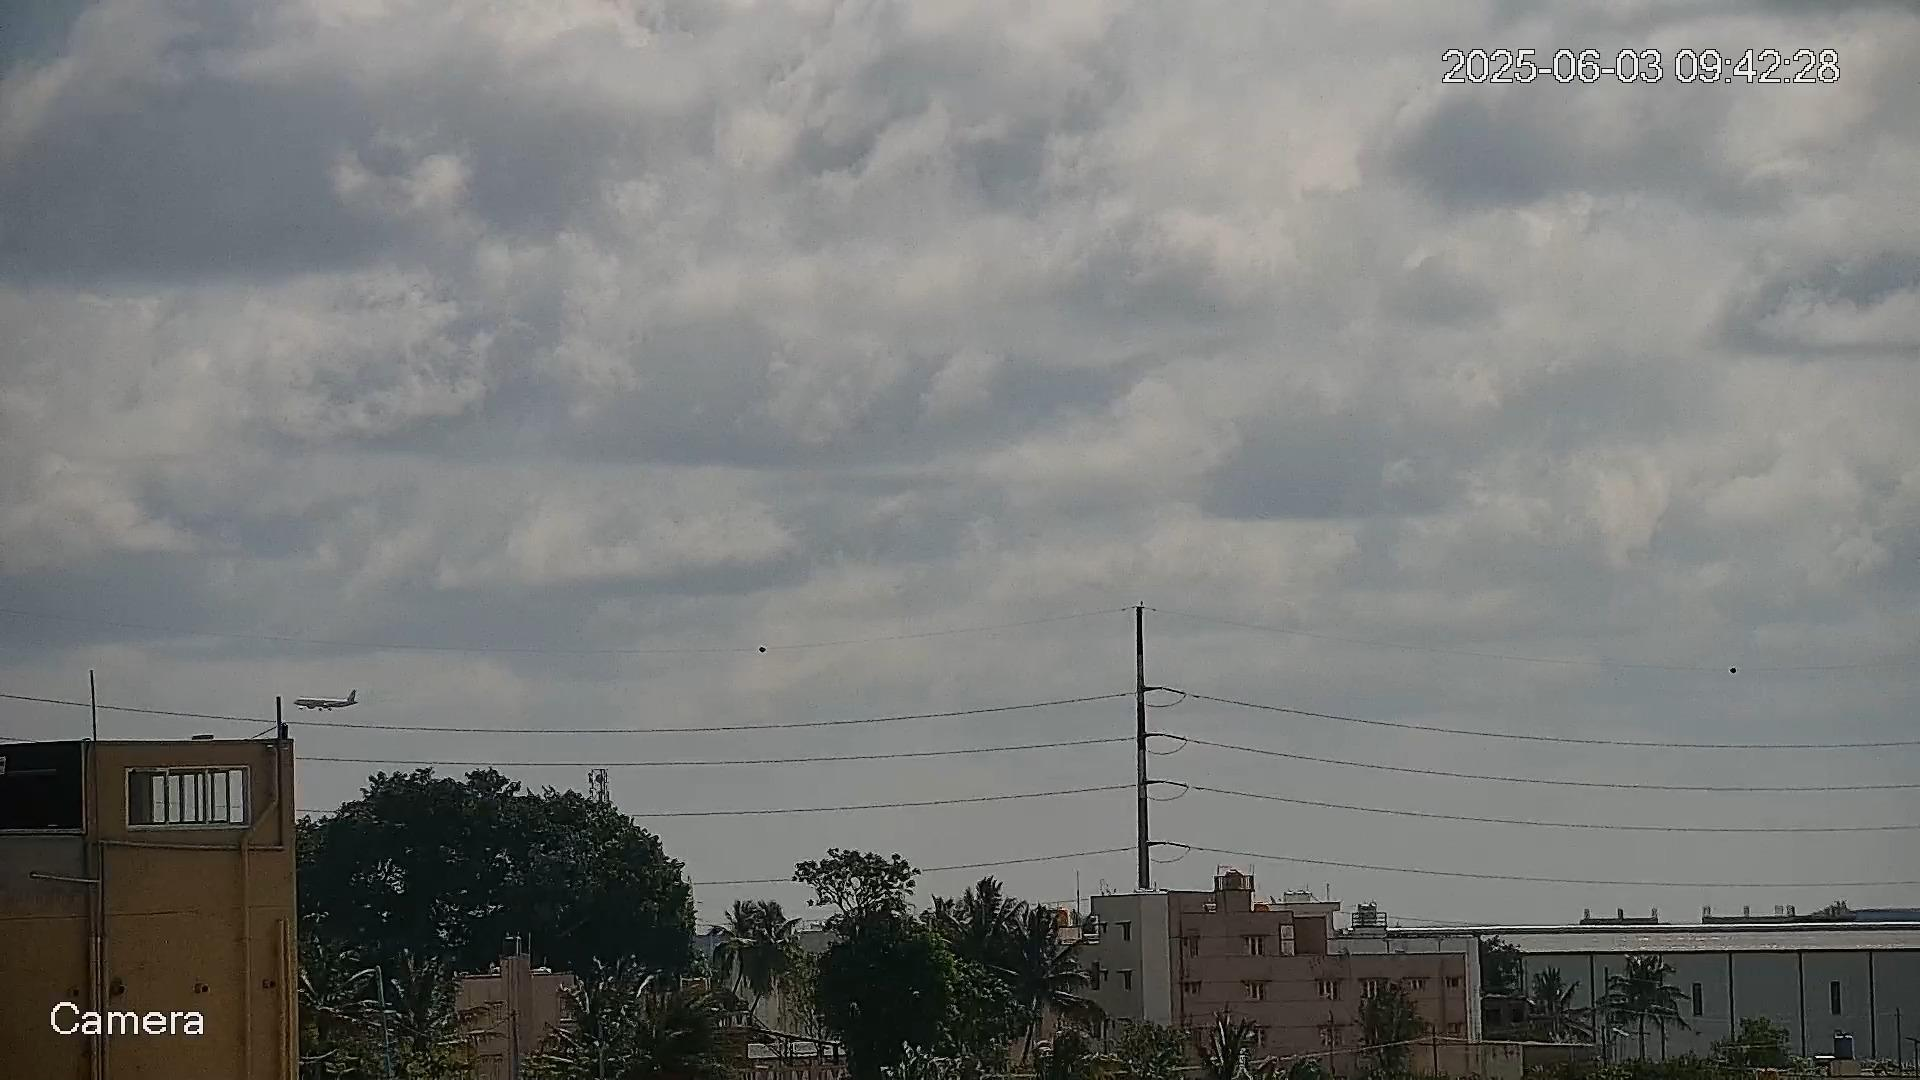Aircraft: (291, 688, 360, 712)
